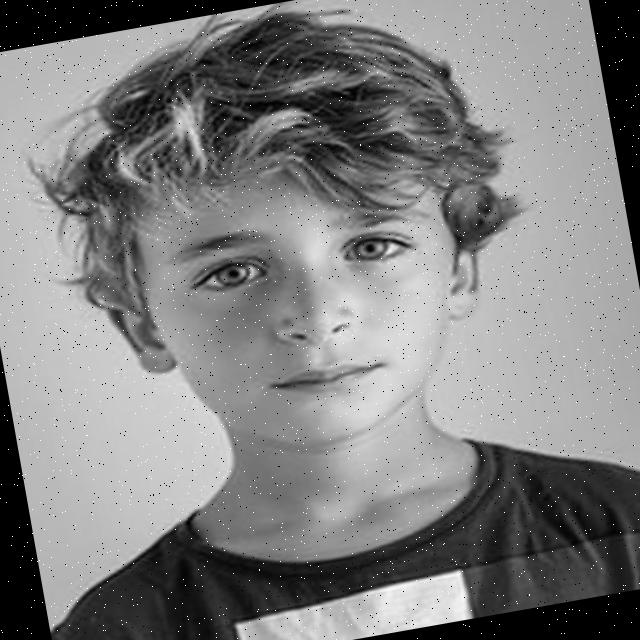Neutral: (128, 132, 484, 470)
